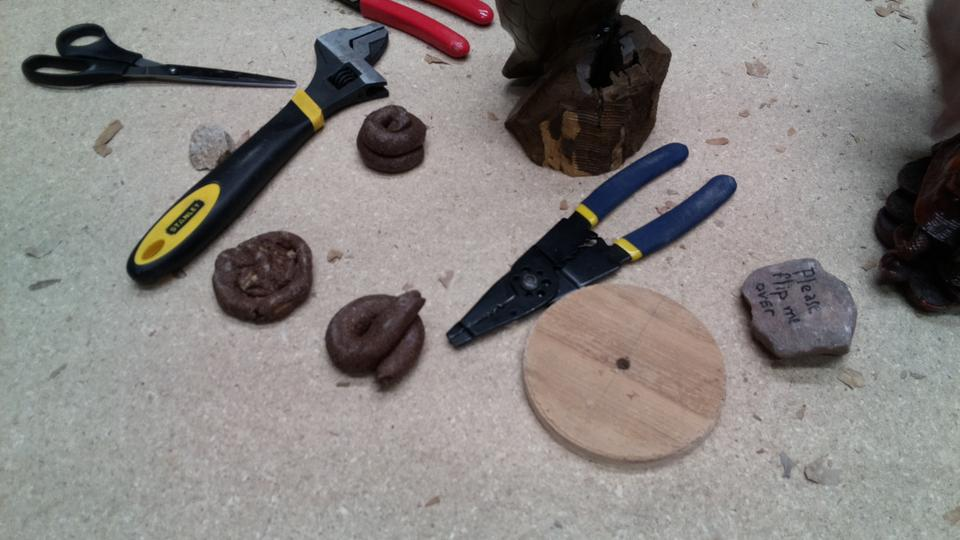poop: (320, 286, 430, 395), (209, 228, 319, 326), (353, 101, 431, 179)
